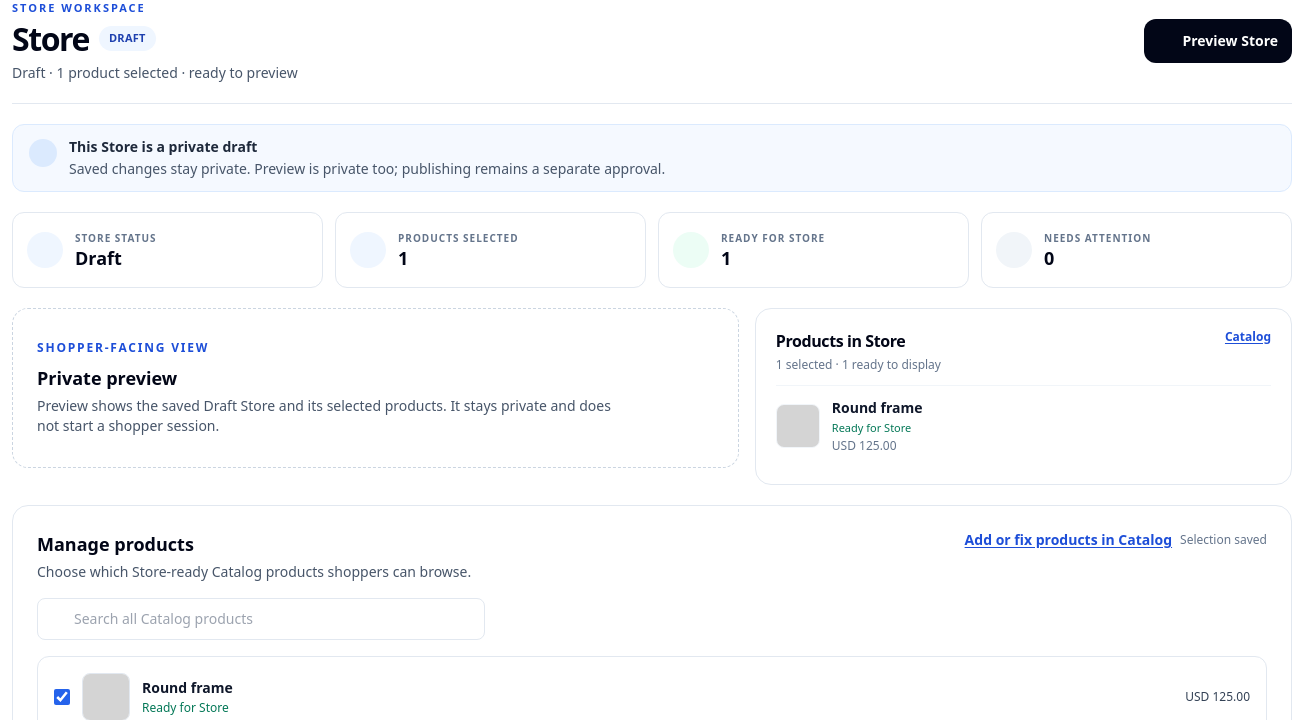
Test: MerchantStoreWorkspace lifecycle UX › keeps Draft preview private and requires an explicit, separate publish approval
Expected: the text "DRAFT" is shown, [99,26,156,51]
What coordinates should you click on to do the following:
click the button "Preview Store"
I would click on:
 (1218, 41)
Its box is [1144,19,1292,63].
(page scrolled)
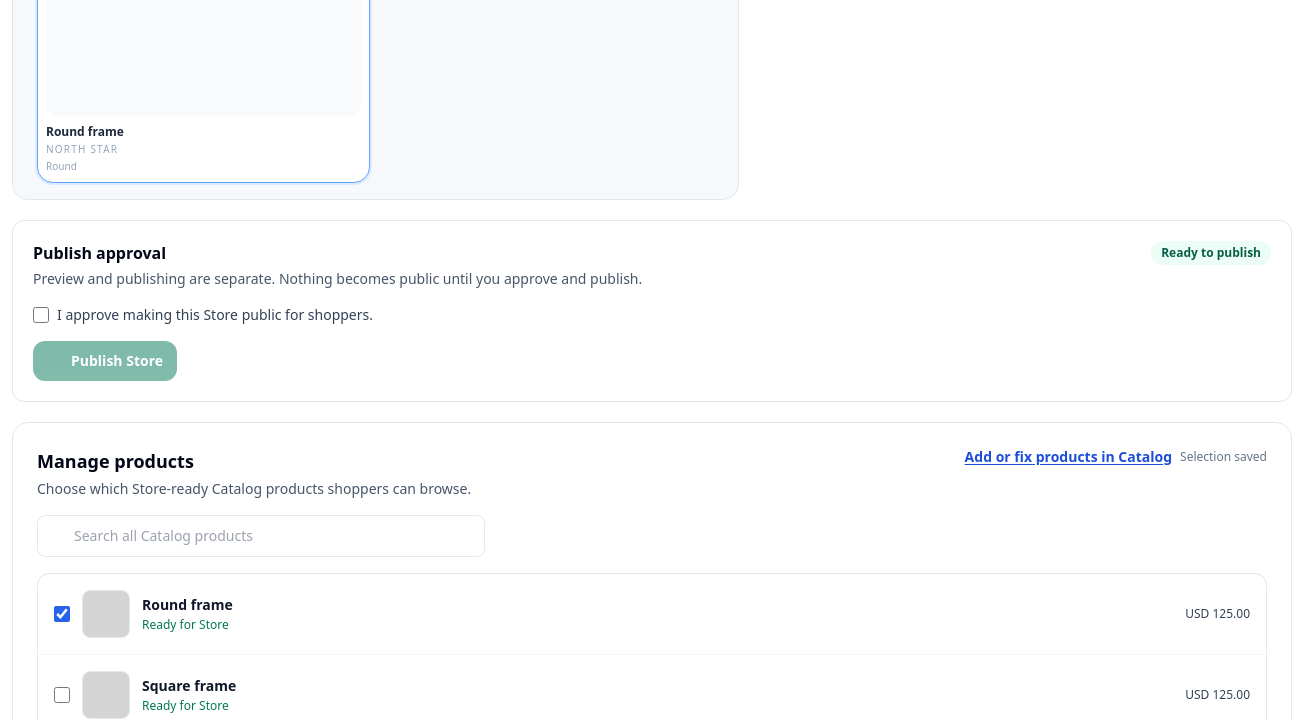
Now the checkbox named "I approve publishing this Store publicly" is not checked, box [33,307,49,323]
Now the button "Publish Store" is disabled, box [33,341,177,381]
